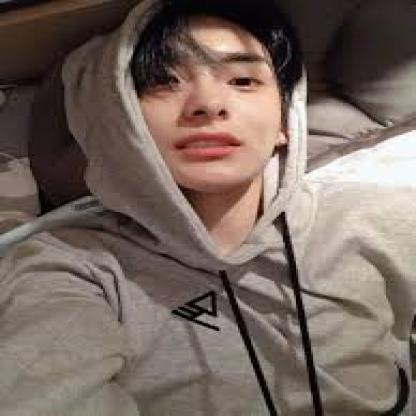person: (81, 12, 308, 211)
